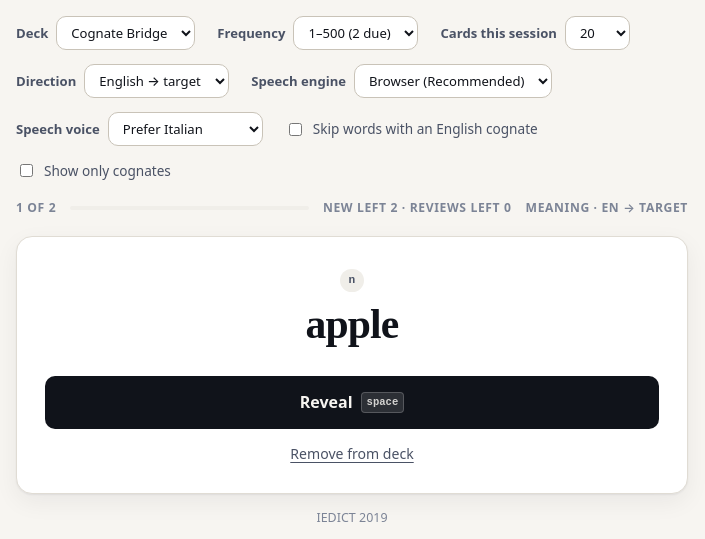
Test: StudyPage › removes the card from the deck without grading it
Expected: the heading "apple" is shown, [306, 300, 398, 350]
Click the button "Remove from deck". click: {"x": 352, "y": 454}
box: [290, 443, 414, 465]
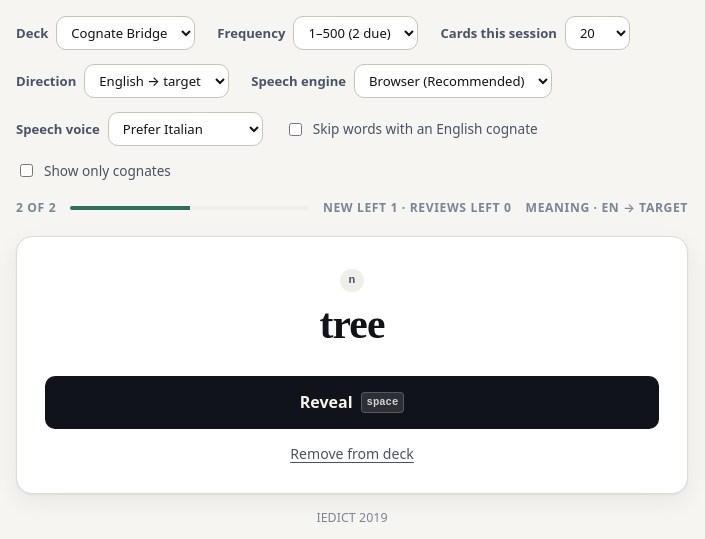
Result: the heading "tree" is shown at [319, 300, 385, 350]
